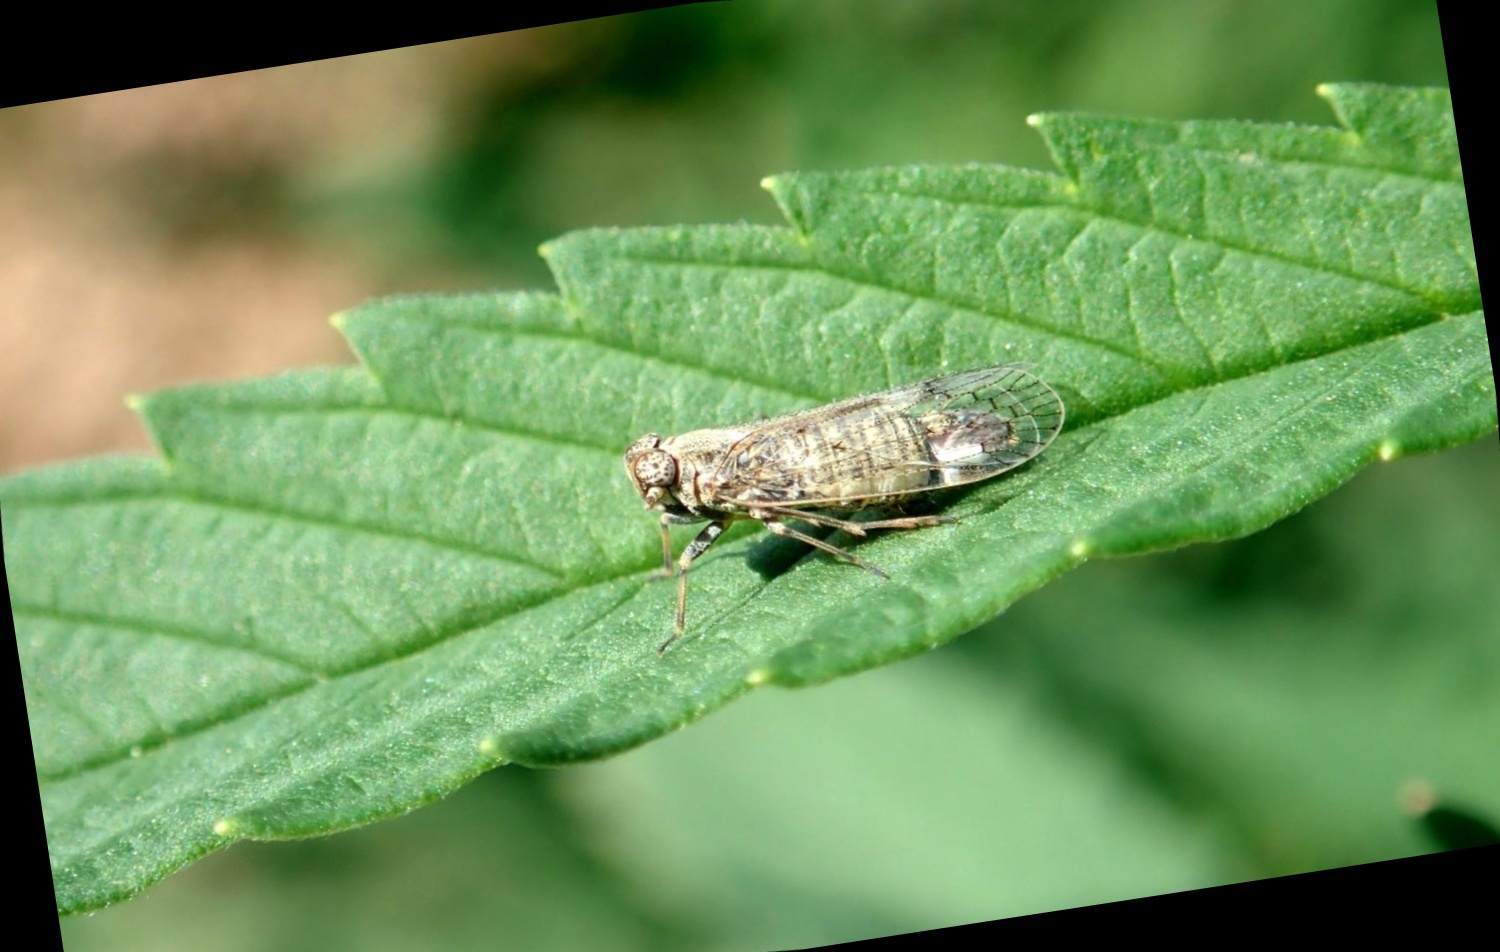Brown_hopper: (596, 352, 1087, 600)
